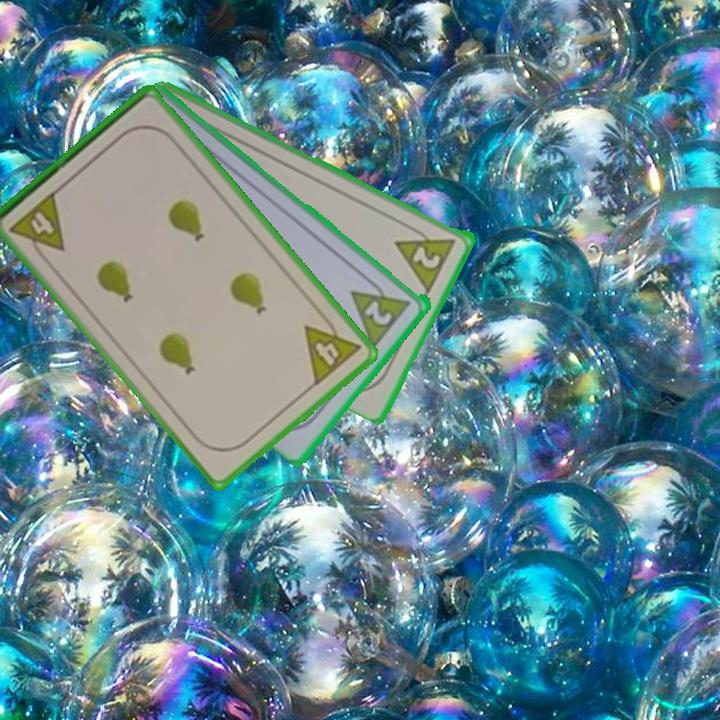2p: (392, 219, 460, 293), (361, 296, 396, 329)
4p: (300, 308, 364, 389), (6, 187, 69, 266)
